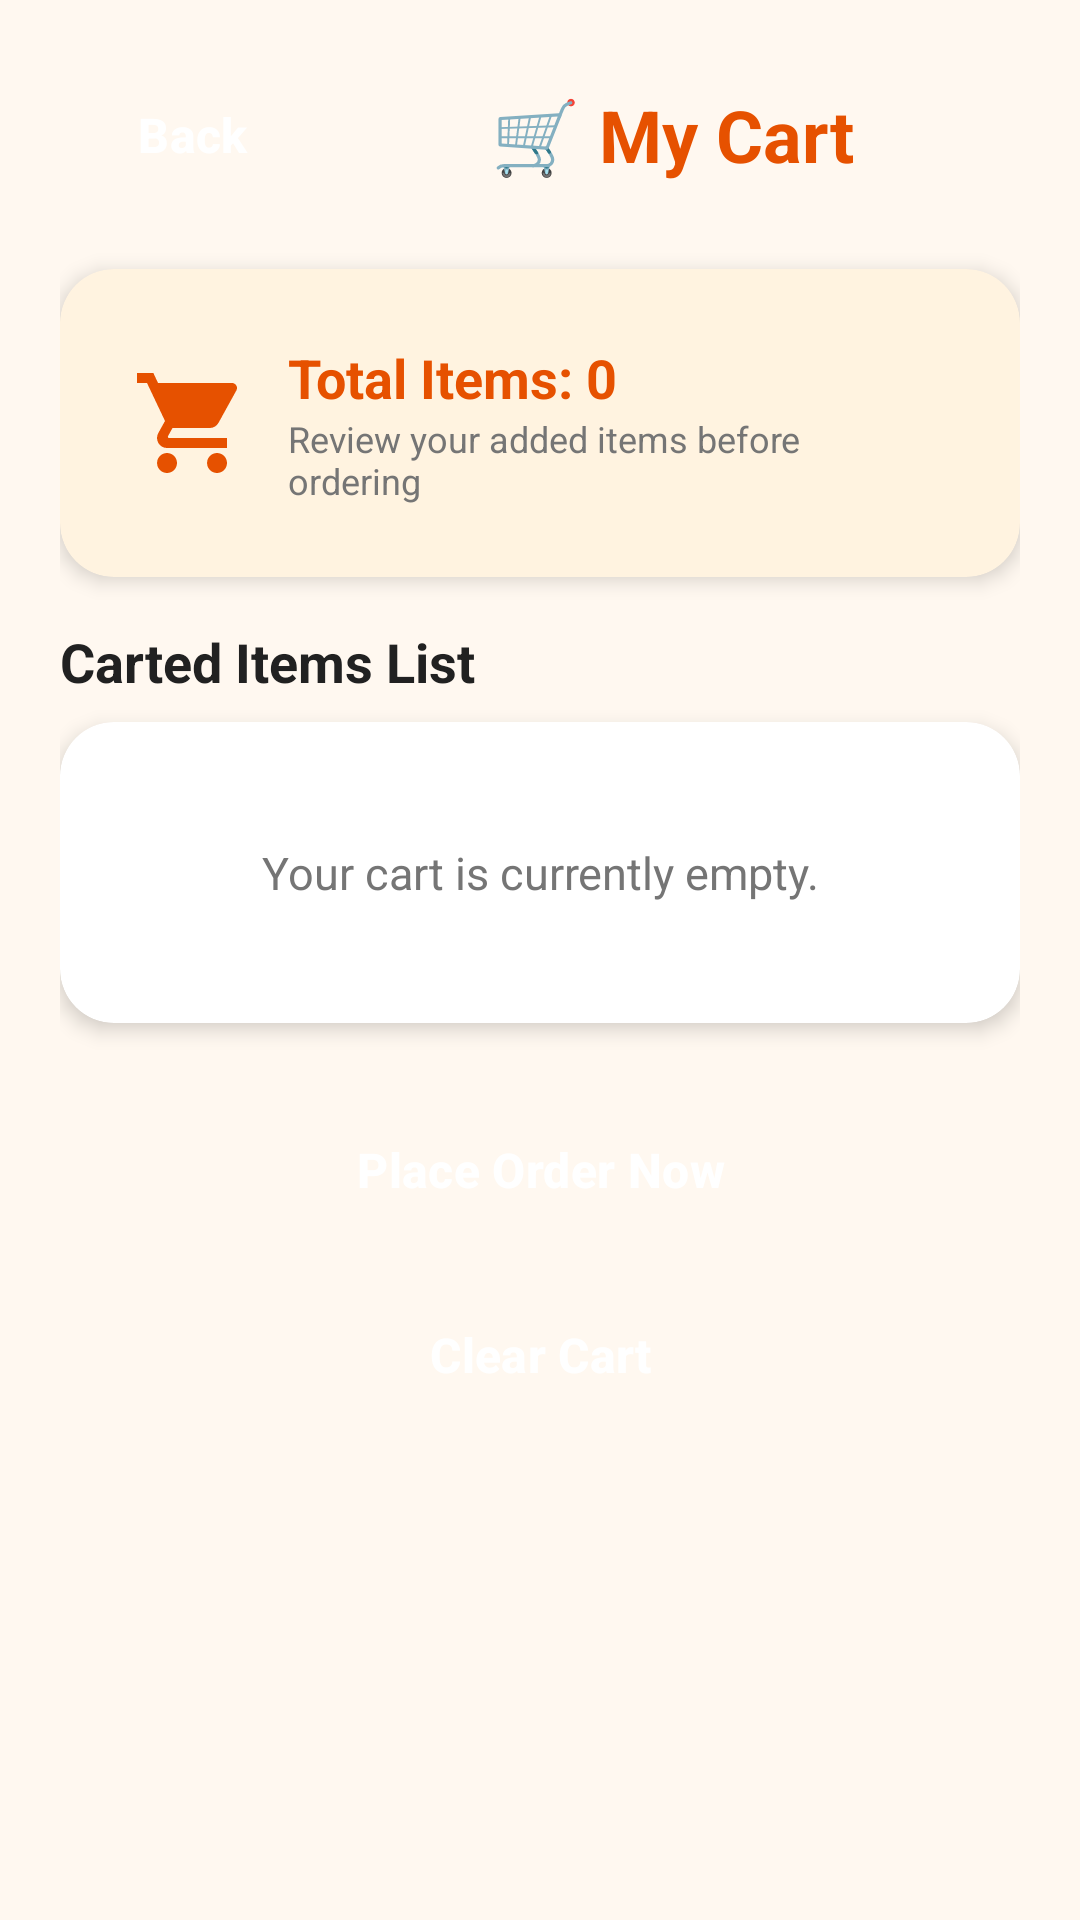

Where to tap for icons on this 1080w x 1920h app screen, as [x,y]:
Cart Icon: [187,423]
